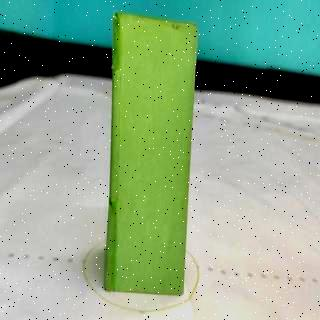greenbox: (106, 10, 201, 296)
